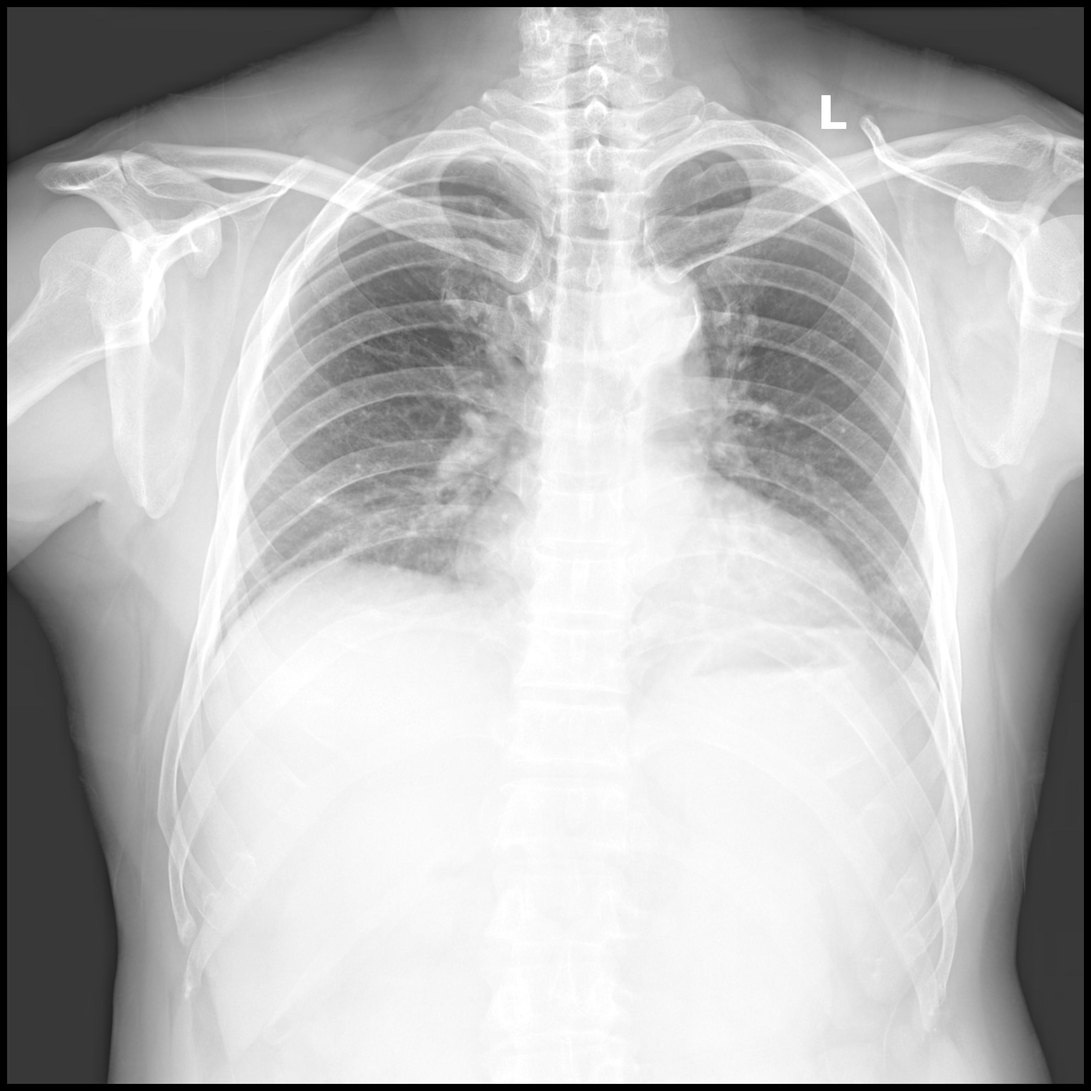Aortic enlargement: (596, 261, 709, 363)
Cardiomegaly: (454, 516, 877, 656)
